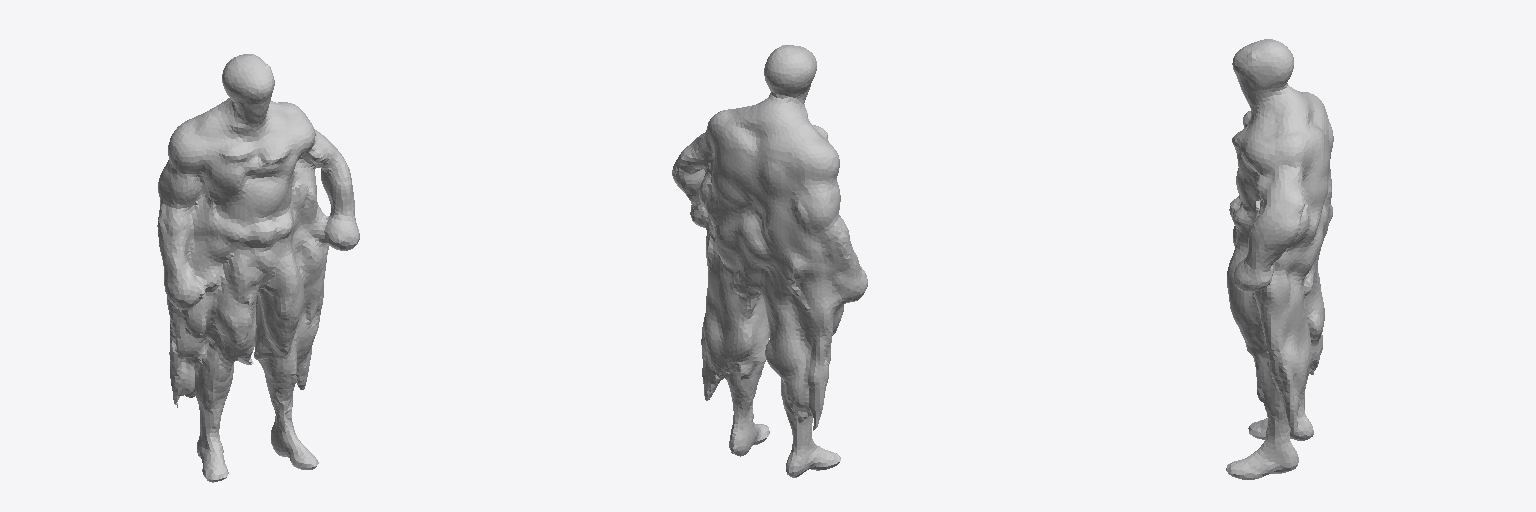
The model's file is man_rgba_png.obj.
3 renders of one model, left to right at view 1: azimuth 30°, elevation 25°; view 2: azimuth 150°, elevation 25°; view 3: azimuth 270°, elevation 25°, orthographic.
Bounding box in the file's own units: 0.6036 × 1.31 × 0.3077.